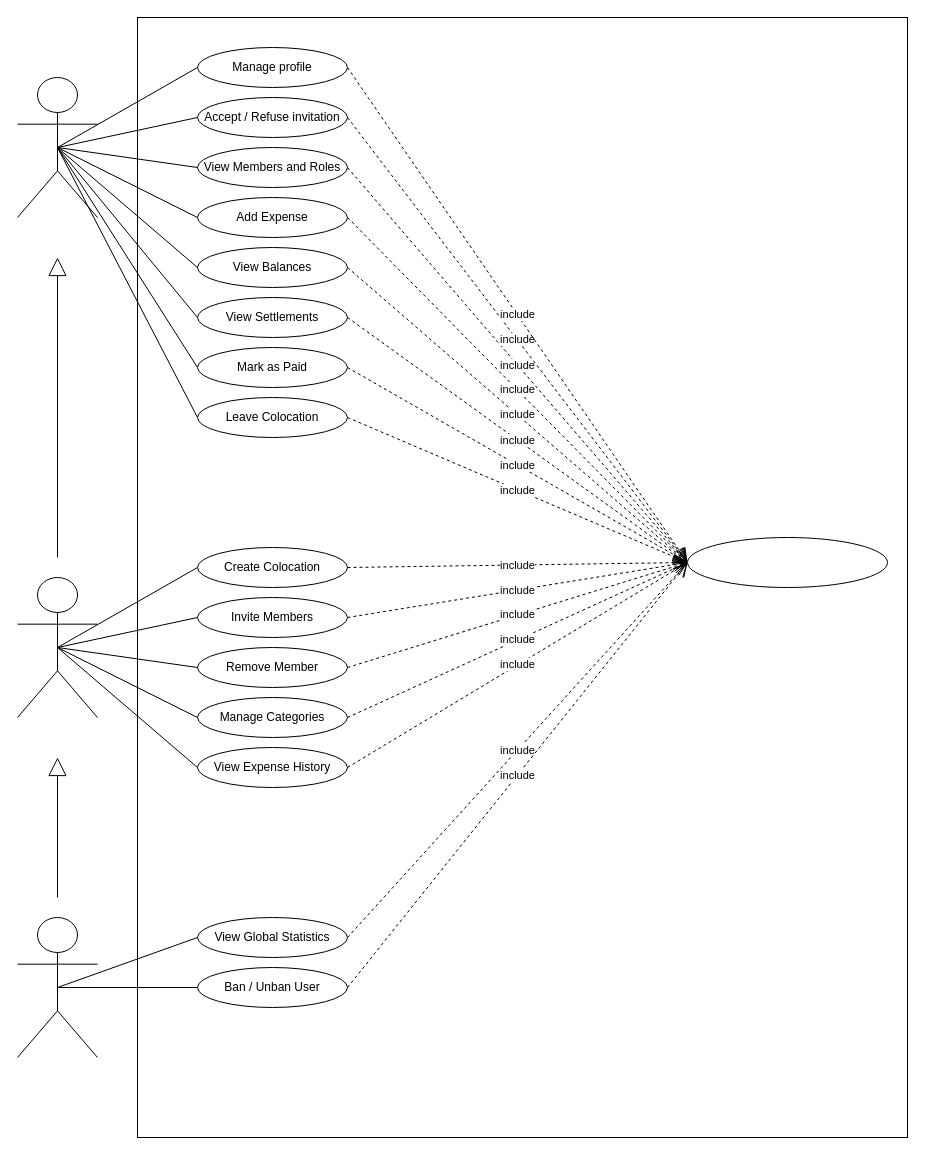
Image size: 925x1155. Some labels were removed from this diagram. Each missing label, with the centre of its shape:
"Admin" belongs at point (57, 987).
"Auth" belongs at point (787, 562).
"Member" belongs at point (57, 147).
"Owner" belongs at point (57, 647).
